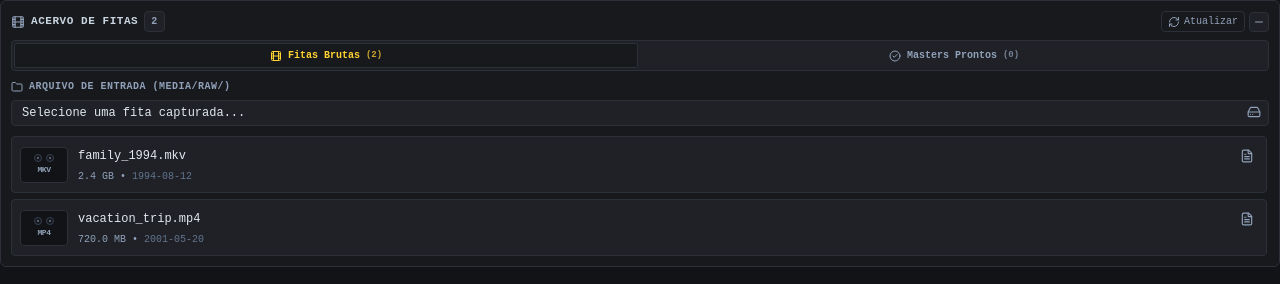
TapeLibraryCard Component › displays empty state when no master files exist
Click the button with test id "tab-masters-btn" at (954, 56), box 642,43 -> 1266,68
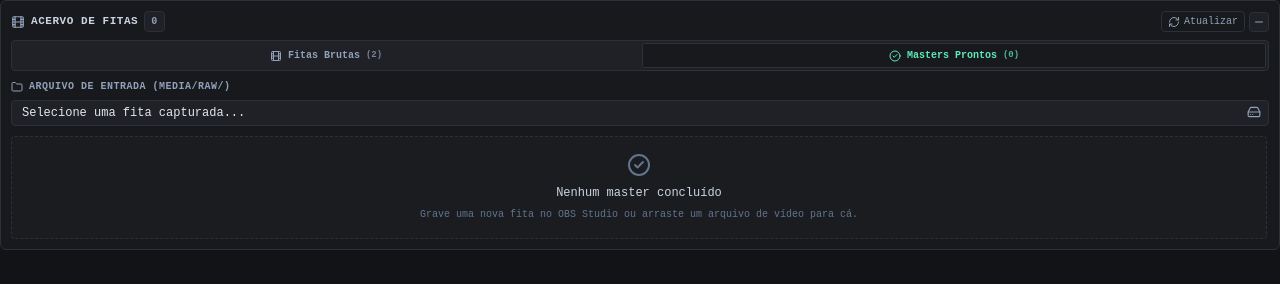
Expected: the text "Nenhum master concluído" is shown, 556,185 -> 722,201
